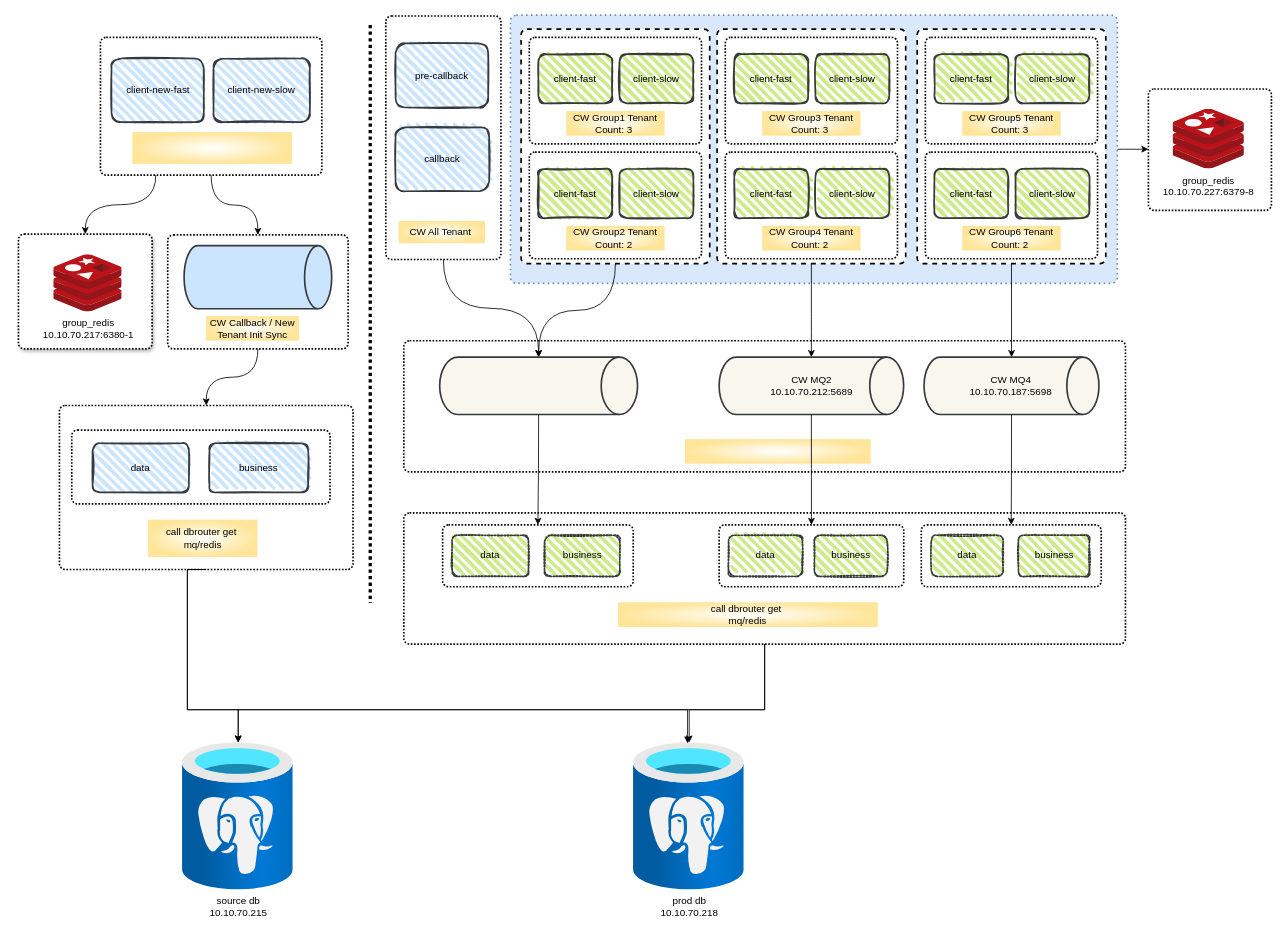
The diagram is 1286 pixels wide and 933 high, and some of its shapes have lost their labels. The centre of each missing label's shape, as x and y in pixels:
callback(pre)/new-tenant MQ 10.10.70.185:5700: the point at 257,276
CW Goup1~6 Tenant Count: 5: the point at 777,451
CW MQ1 10.10.70.200:5690: the point at 538,385
CW New Tenant Init Sync: the point at 212,148
